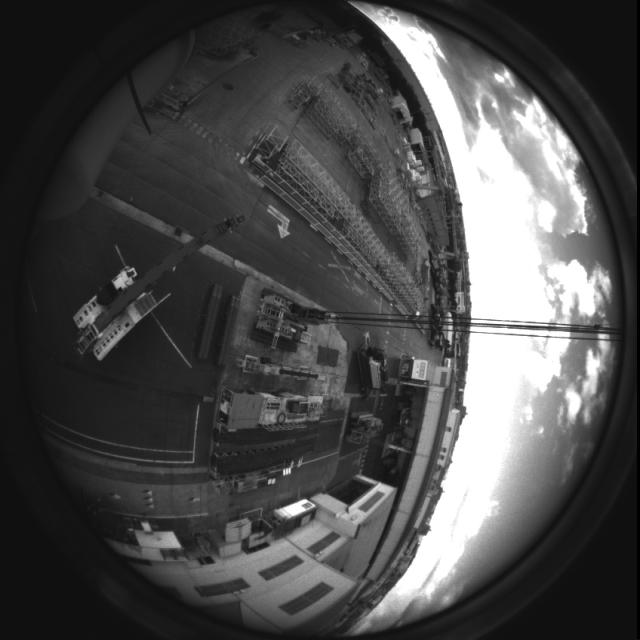rope: (264, 304, 636, 349)
